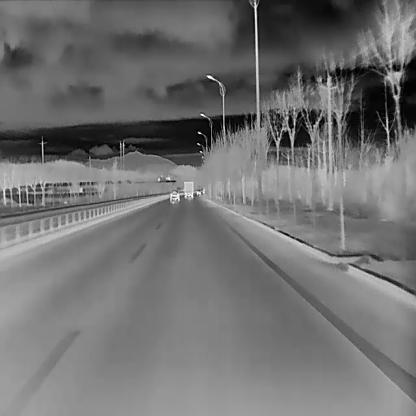car: (168, 188, 180, 200), (196, 189, 200, 194)
truck: (183, 179, 193, 197)
